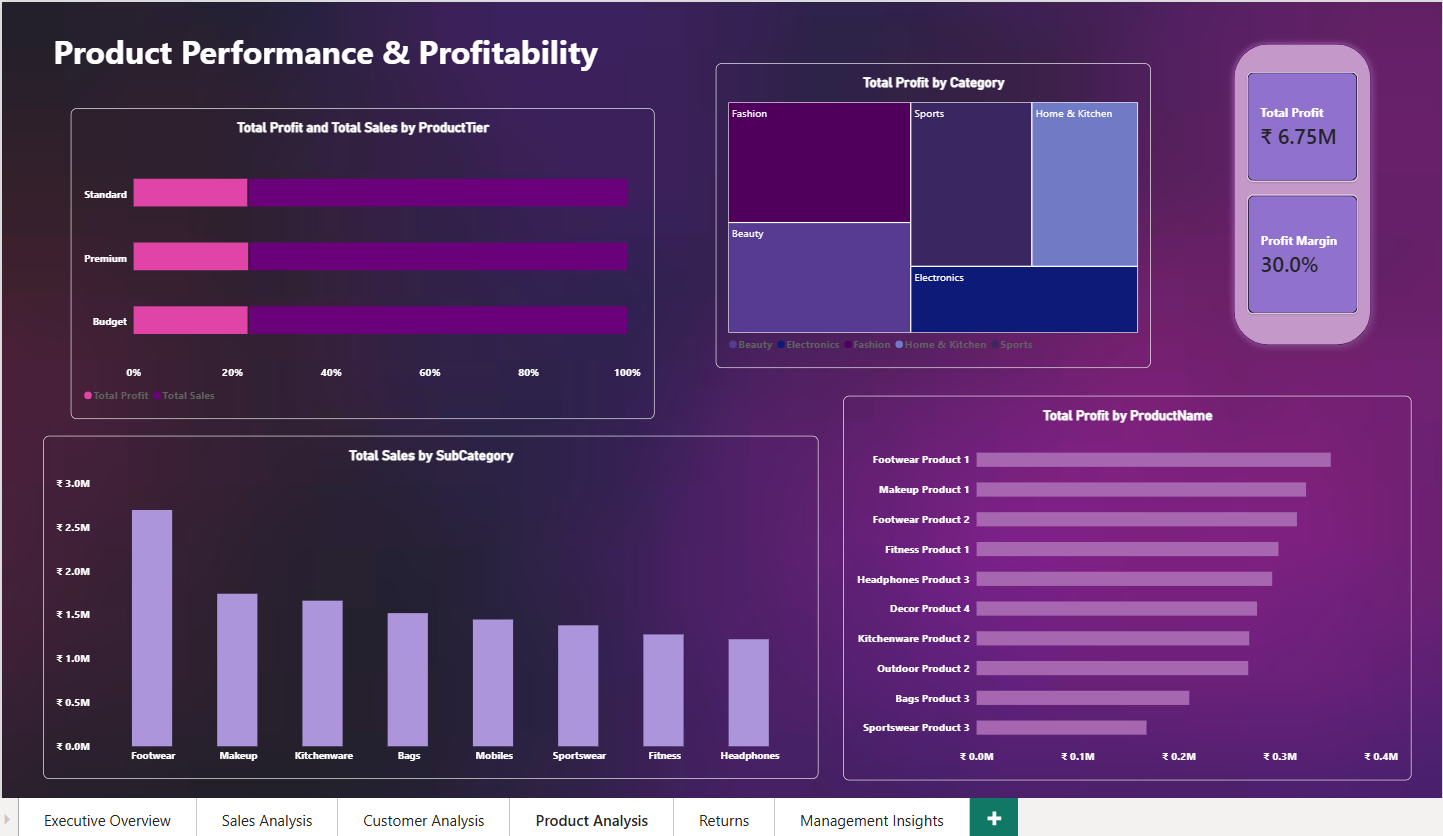

This screenshot's page, from the dashboard's own definition file:
{"tool":"powerbi","page":{"name":"Product Analysis","canvas":[1920,1080],"ordinal":3},"visuals":[{"type":"shape","box":[1634.1,47.1,200.9,419.8],"z":0,"group":"g1"},{"type":"columnChart","fields":{"Category":["Products.SubCategory"],"Y":["Customers.Total Sales"]},"box":[54.3,579.1,1033.3,457.8],"z":0},{"type":"treemap","fields":{"Details":["Products.Category"],"Values":["Customers.Total Profit"]},"box":[951.9,81.4,580,406],"z":1000},{"type":"hundredPercentStackedBarChart","fields":{"Category":["Products.ProductTier"],"Y":["Customers.Total Profit","Customers.Total Sales"]},"box":[92.3,141.2,778.2,414.4],"z":2000},{"type":"barChart","fields":{"Category":["Products.ProductName"],"Y":["Customers.Total Profit"]},"box":[1122,524.8,757.5,512.5],"z":3000},{"type":"textbox","box":[68.8,36.2,778.2,90.5],"z":4000},{"type":"cardVisual","fields":{"Data":["Customers.Profit Margin"]},"box":[1661.2,257,148.4,159.3],"z":4000,"group":"g1"},{"type":"group","id":"g1","title":"Group 1","box":[1634.1,47.1,200.9,419.8],"z":5000},{"type":"cardVisual","fields":{"Data":["Customers.Total Profit"]},"box":[1661.2,94.2,148.4,146.6],"z":6000,"group":"g1"}]}

Visuals, with their boxes on the page's 1920x1080 design canvas (x1, y1, x2, y2). These are canvas units, not pixel positions in the 1443x836 screenshot, which may show the page scaled, cropped or inside an application window:
shape: <bbox>1634, 47, 1835, 467</bbox>
columnChart - Products.SubCategory x Customers.Total Sales: <bbox>54, 579, 1088, 1037</bbox>
treemap - Products.Category x Customers.Total Profit: <bbox>952, 81, 1532, 487</bbox>
hundredPercentStackedBarChart - Products.ProductTier x Customers.Total Profit: <bbox>92, 141, 870, 556</bbox>
barChart - Products.ProductName x Customers.Total Profit: <bbox>1122, 525, 1880, 1037</bbox>
textbox: <bbox>69, 36, 847, 127</bbox>
cardVisual - Customers.Profit Margin: <bbox>1661, 257, 1810, 416</bbox>
"Group 1" group: <bbox>1634, 47, 1835, 467</bbox>
cardVisual - Customers.Total Profit: <bbox>1661, 94, 1810, 241</bbox>
